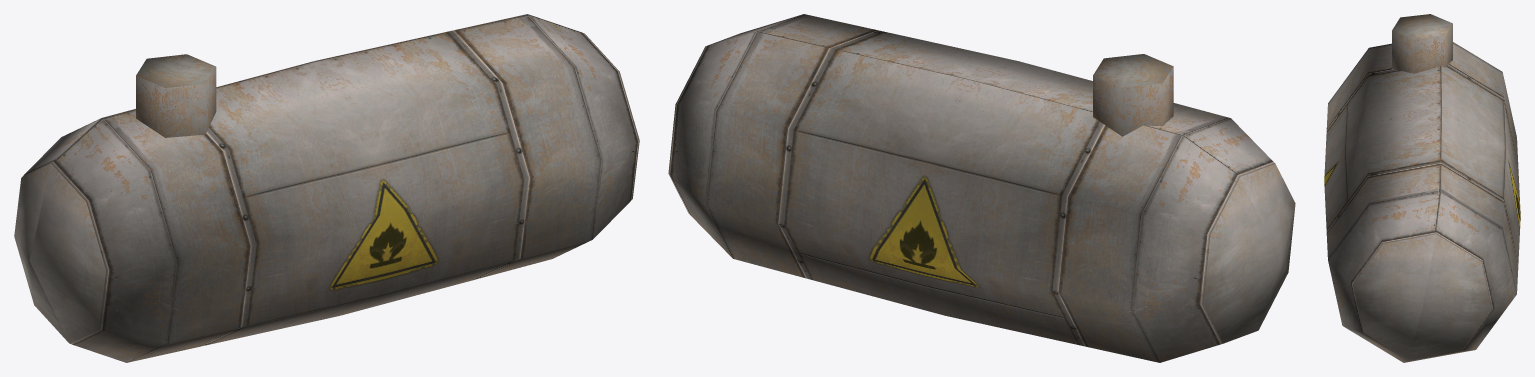
The model's file is Prop_Yg03_lod2.glb.
The picture shows the model from 3 angles, left to right: view 1: azimuth 30°, elevation 25°; view 2: azimuth 150°, elevation 25°; view 3: azimuth 270°, elevation 25°; orthographic projection. The views are drawn at different scales.
Parts seen in each view (by area): view 1: xiutz_yg_03_lod2; view 2: xiutz_yg_03_lod2; view 3: xiutz_yg_03_lod2.
Boxes of the visible parts, x1,y1,x2,y2 form: xiutz_yg_03_lod2: [14, 14, 639, 362]; xiutz_yg_03_lod2: [668, 14, 1295, 362]; xiutz_yg_03_lod2: [1324, 14, 1520, 362].
Size of the model in its own units: 10.22 by 4.47 by 3.87.
Materials: 1 (1 with a texture image).
